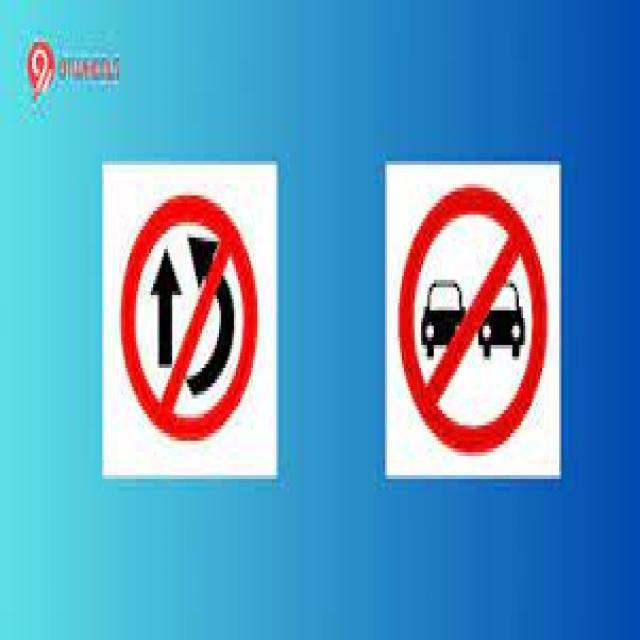overtaking prohibited: (107, 177, 275, 470)
